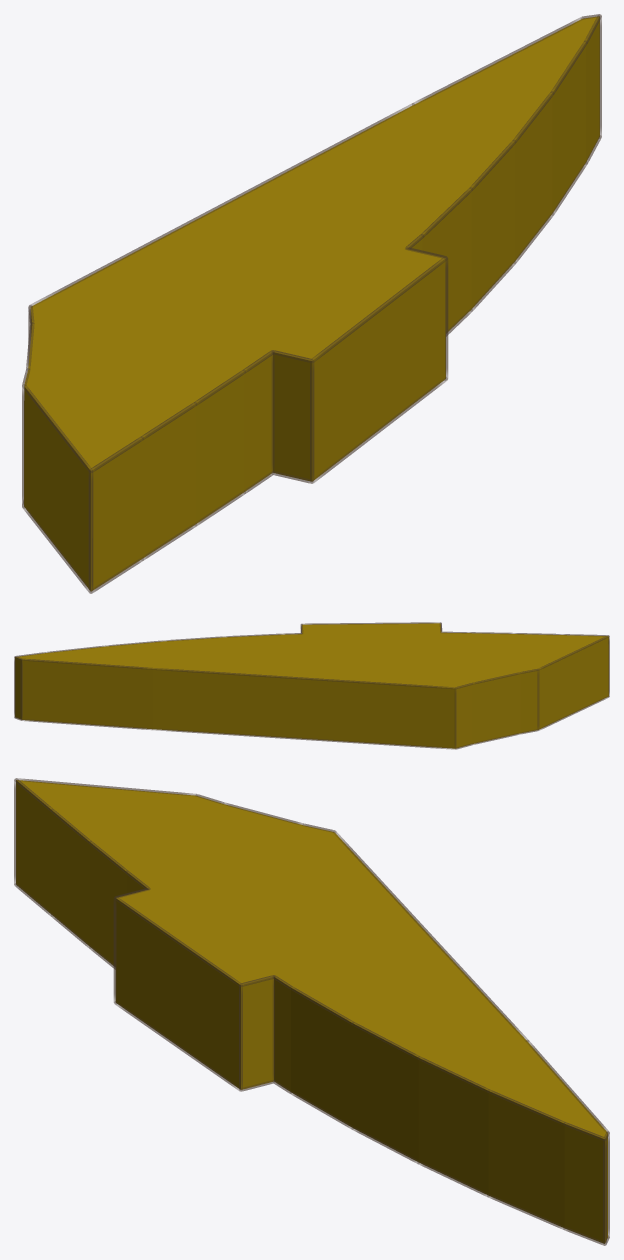
Rendered from 海底隧道1.glb.
The picture shows the model from 3 angles, top to bottom: view 1: azimuth 30°, elevation 25°; view 2: azimuth 150°, elevation 25°; view 3: azimuth 270°, elevation 25°; orthographic projection. The views are drawn at different scales.
Visible parts, largest first — view 1: 海底隧道1; view 2: 海底隧道1; view 3: 海底隧道1.
Boxes of the visible parts, x1,y1,x2,y2 form: 海底隧道1: (22, 14, 601, 593); 海底隧道1: (14, 622, 609, 749); 海底隧道1: (14, 778, 609, 1245).
Size of the model in its own units: 108 by 15.14 by 75.3.
Materials: 2 (1 with a texture image).
